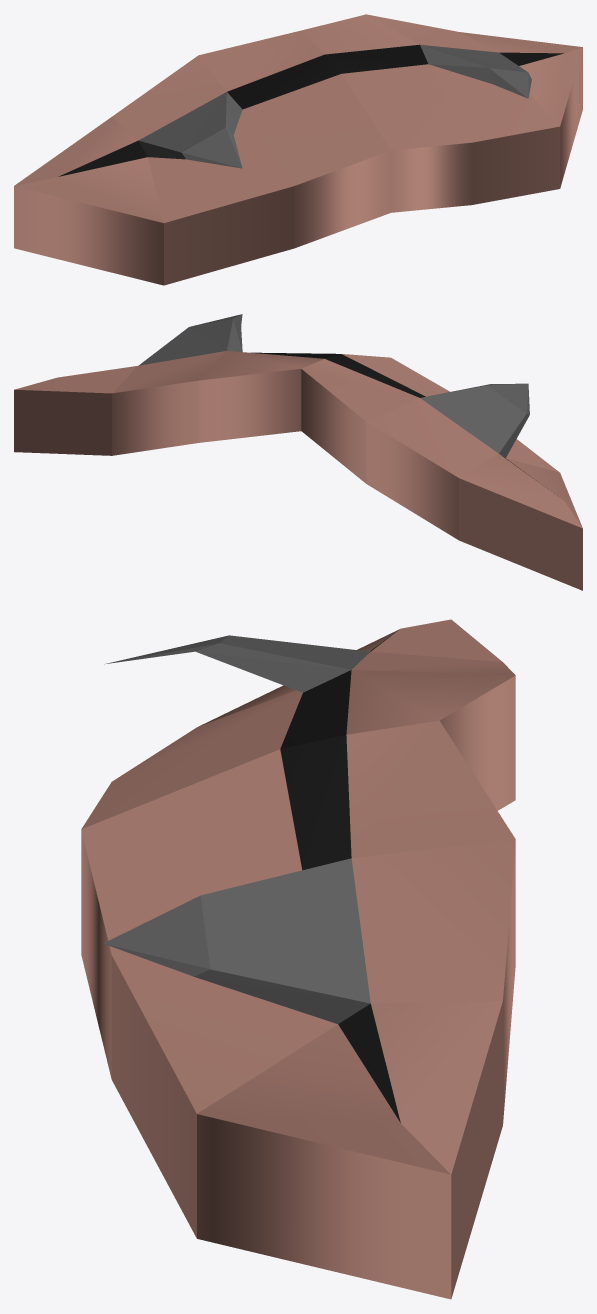
Rendered from Mouth 11.FBX.
The picture shows the model from 3 angles, top to bottom: view 1: azimuth 30°, elevation 25°; view 2: azimuth 150°, elevation 25°; view 3: azimuth 270°, elevation 25°; orthographic projection. The views are drawn at different scales.
Visible parts, largest first — view 1: Mouth 11; view 2: Mouth 11; view 3: Mouth 11.
Boxes of the visible parts, x1,y1,x2,y2 form: Mouth 11: [14, 14, 582, 285]; Mouth 11: [14, 314, 582, 590]; Mouth 11: [81, 619, 515, 1299].
Bounding box in the file's own units: 7.84 × 2.14 × 2.59.
